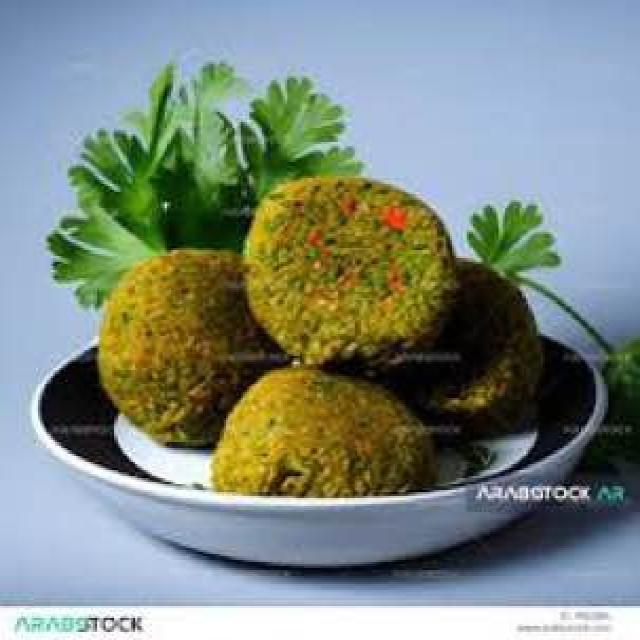taamia: (98, 162, 545, 496)
